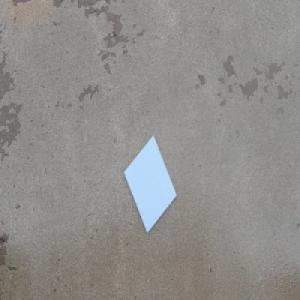PaintChip: (121, 132, 177, 236)
